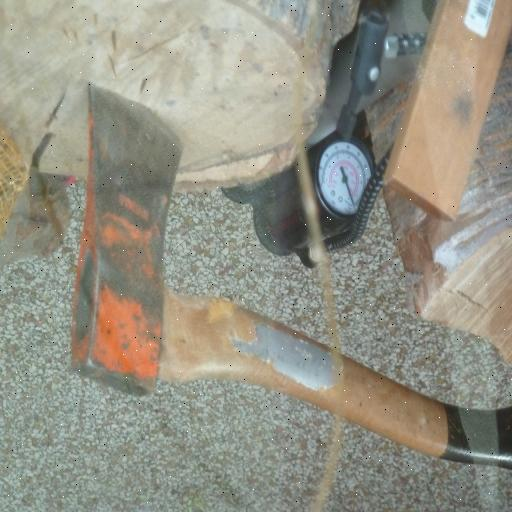Axe: (82, 80, 512, 472)
